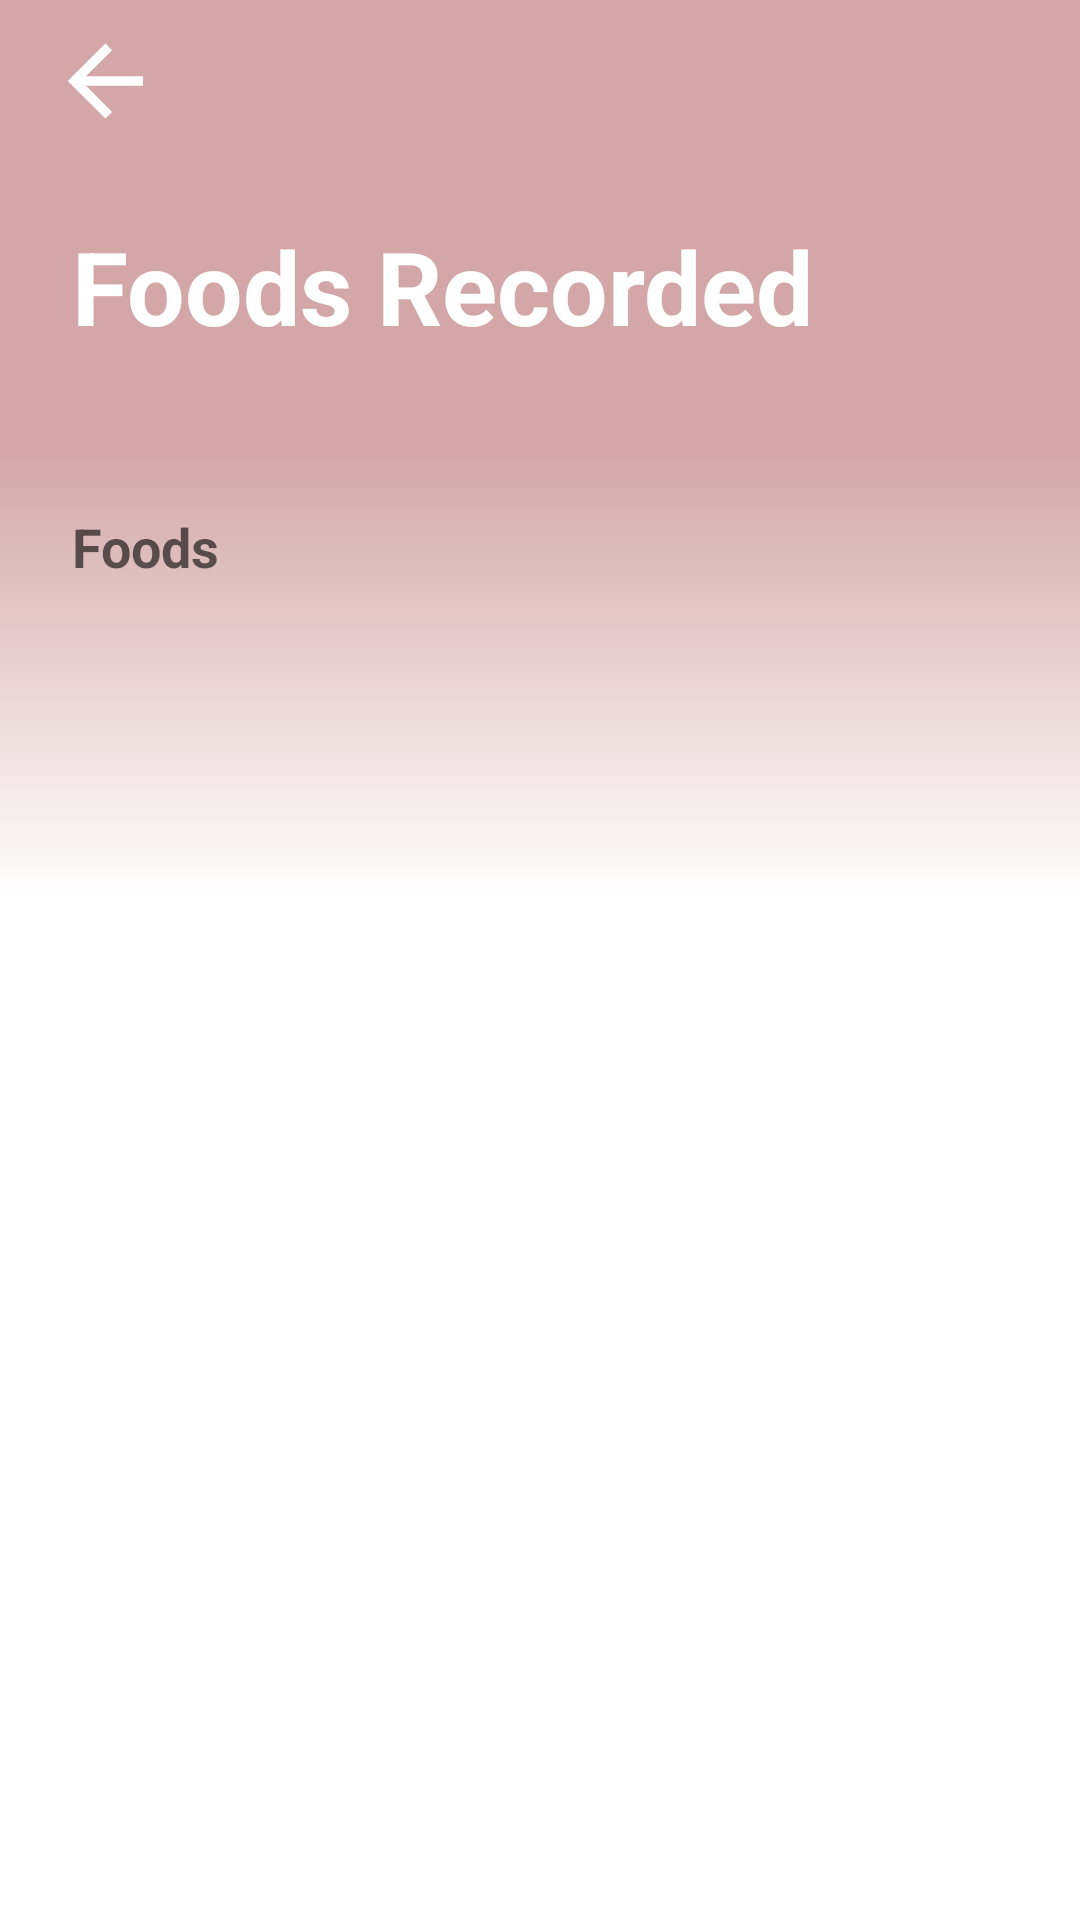

Named icons in this screenshot (1080 × 1920) and their bounding boxes, [left=x1, top=y1, right=x2, bottom=y2]:
arrow left: [left=68, top=44, right=143, bottom=118]
